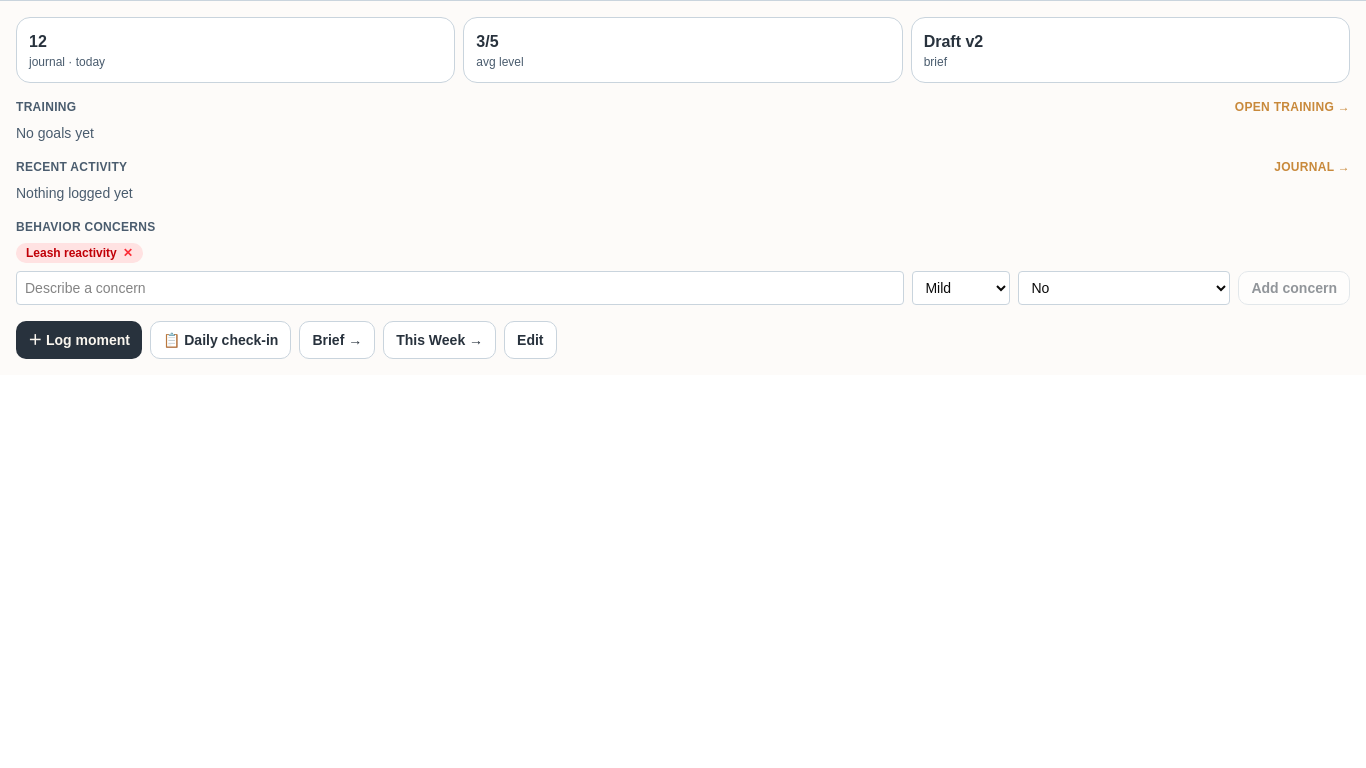
Test: DogCardBody › opens the Log moment dialog in place (no navigation)
This screenshot has width=1366, height=768.
Click the button "＋ Log moment": {"x": 79, "y": 340} top-left (16, 321), bottom-right (142, 359)
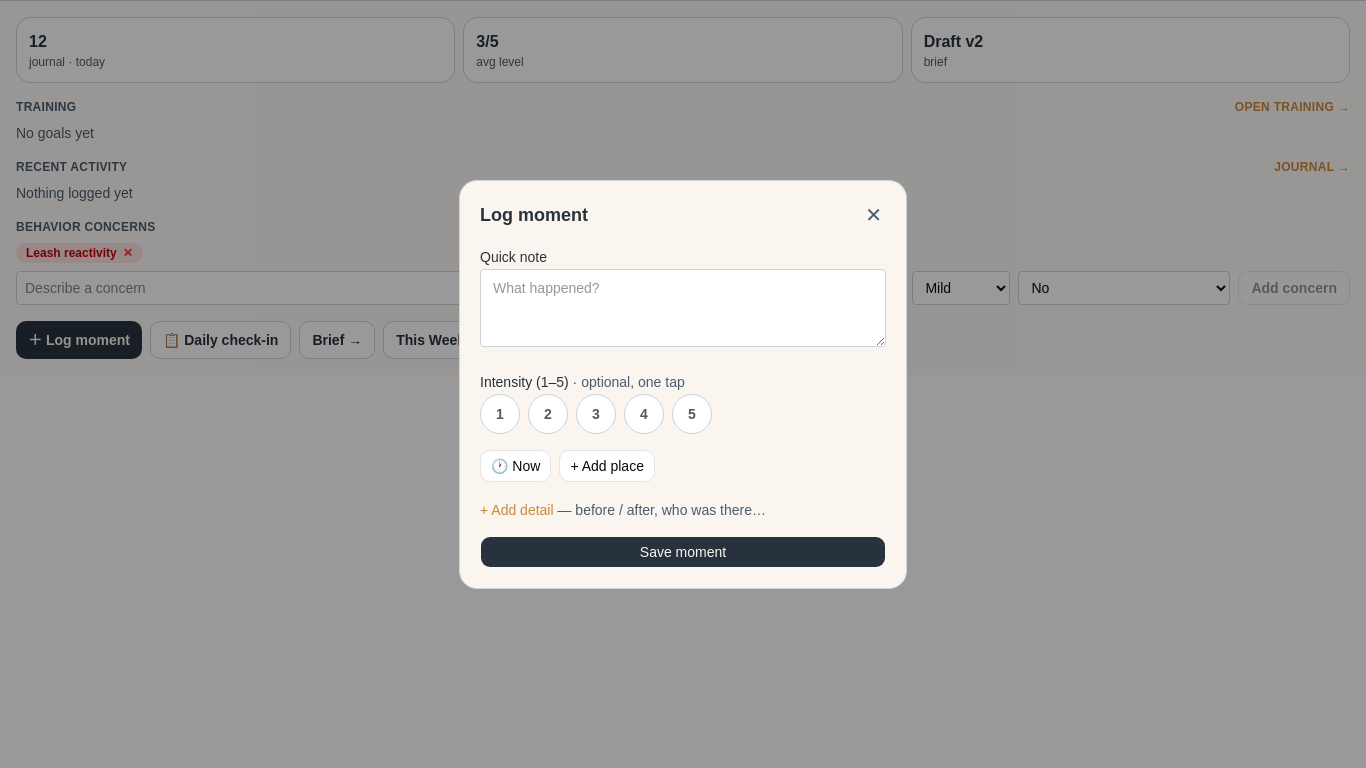
Result: the dialog "Log moment" is shown at top-left (459, 180), bottom-right (907, 588)
